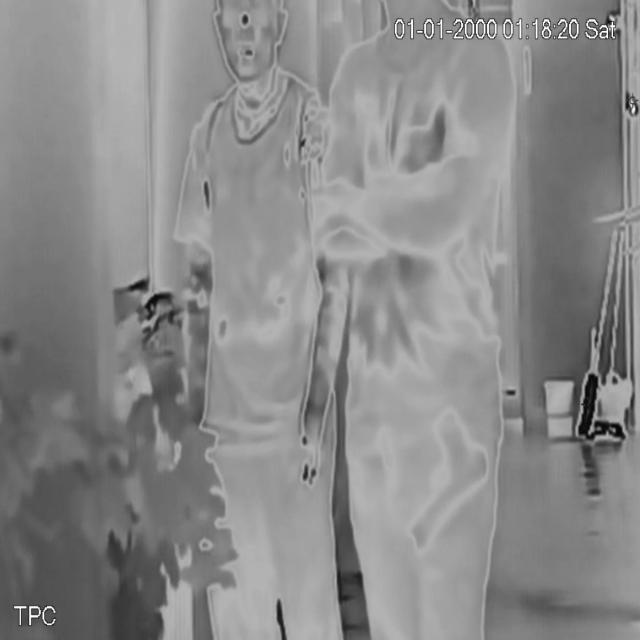Weapon: (409, 410, 492, 555)
